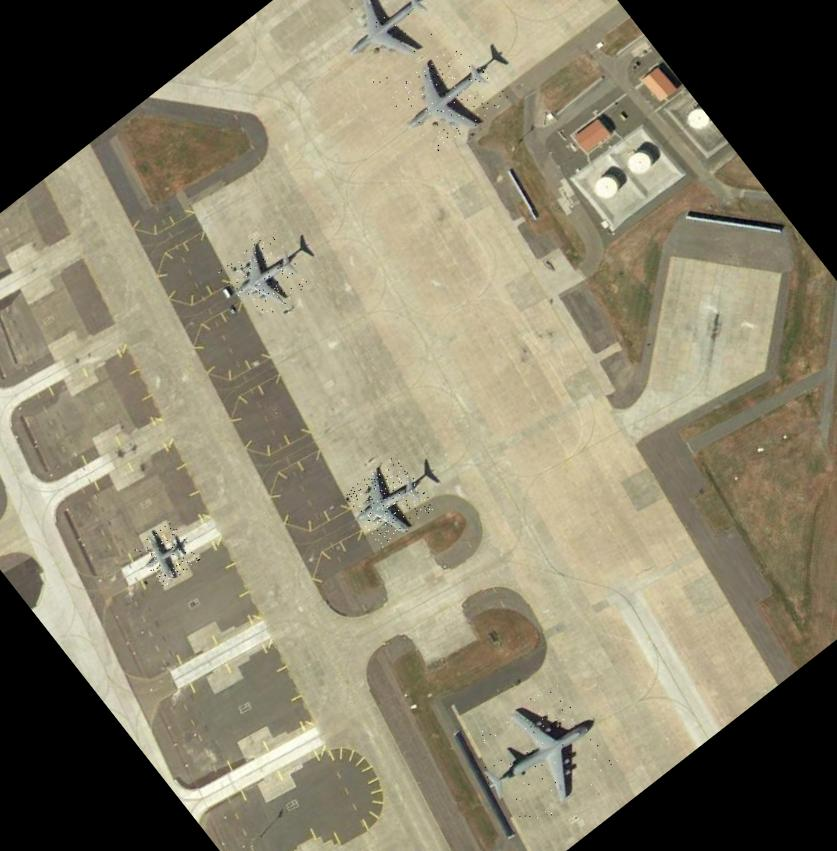A2: (132, 520, 200, 588)
A3: (340, 454, 436, 548), (218, 230, 312, 324)
A4: (458, 673, 621, 835), (385, 34, 510, 157), (326, 0, 449, 87)
